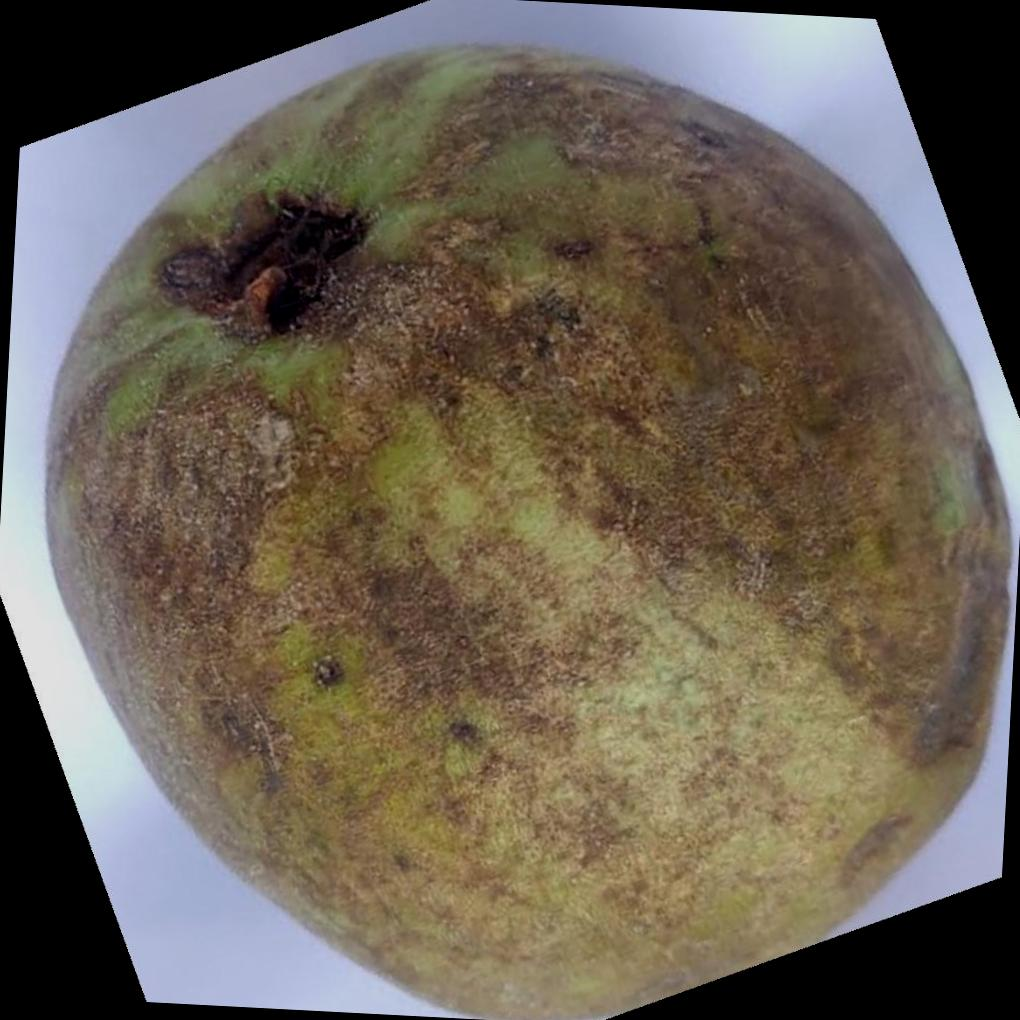FreshOrange: (38, 40, 1009, 1020)
